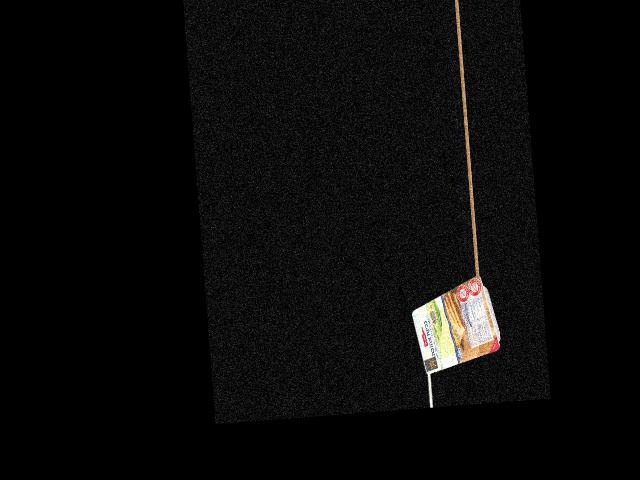cheese: (411, 288, 500, 367)
